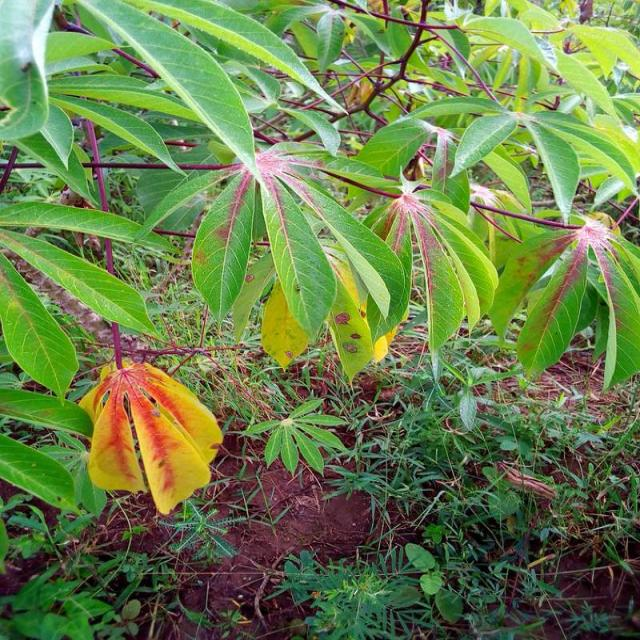cassava leaf: (79, 356, 224, 515)
